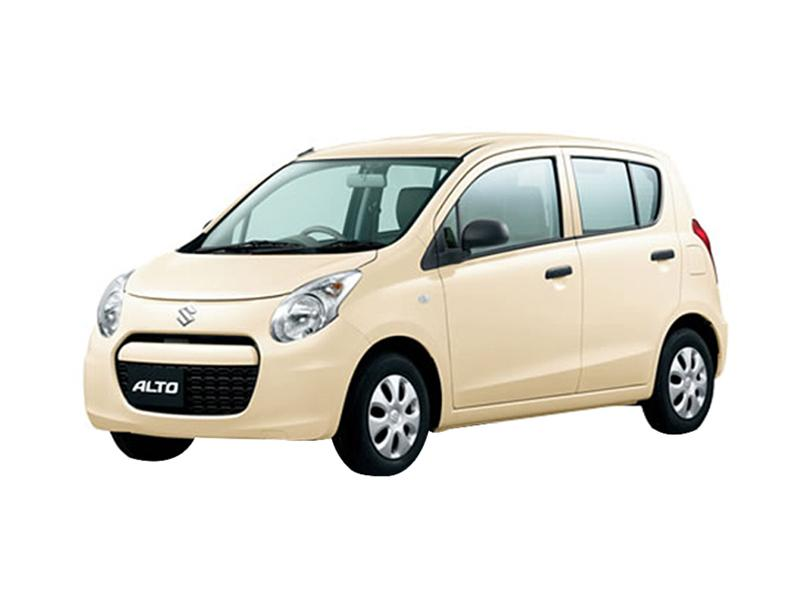Hatchback: (53, 103, 747, 500)
